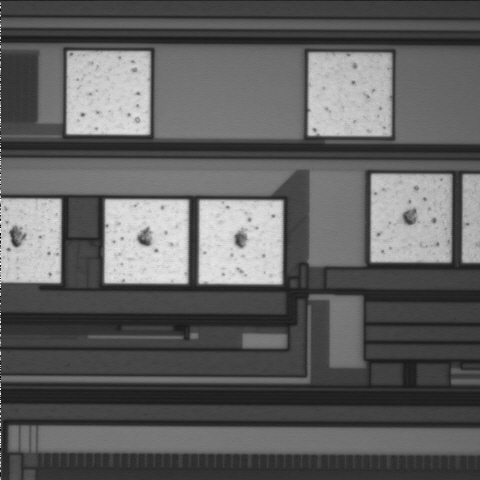pad: (199, 200, 283, 284), (67, 51, 150, 135), (105, 200, 188, 284), (371, 174, 450, 262), (308, 53, 391, 136)
